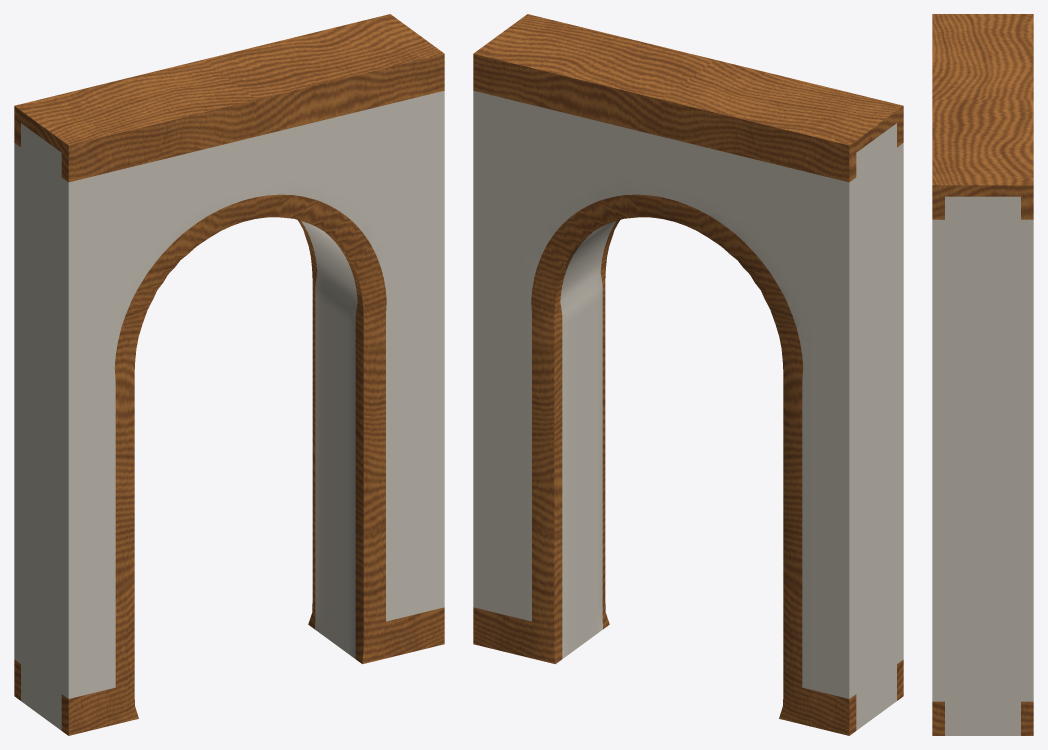
Rendered from wall_in_doorway.glb.
3 views of the same model, side by side, from view 1: azimuth 30°, elevation 25°; view 2: azimuth 150°, elevation 25°; view 3: azimuth 270°, elevation 25° (orthographic). The views are drawn at different scales.
Parts seen in each view (by area): view 1: town_wall_in_doorway; view 2: town_wall_in_doorway; view 3: town_wall_in_doorway.
Part boxes in pixels (x1,y1,x2,y2): town_wall_in_doorway: (14, 14, 444, 735); town_wall_in_doorway: (473, 14, 903, 735); town_wall_in_doorway: (932, 14, 1033, 735).
Bounding box in the file's own units: 1 × 1.5 × 0.25.
2 materials, 1 textured.
